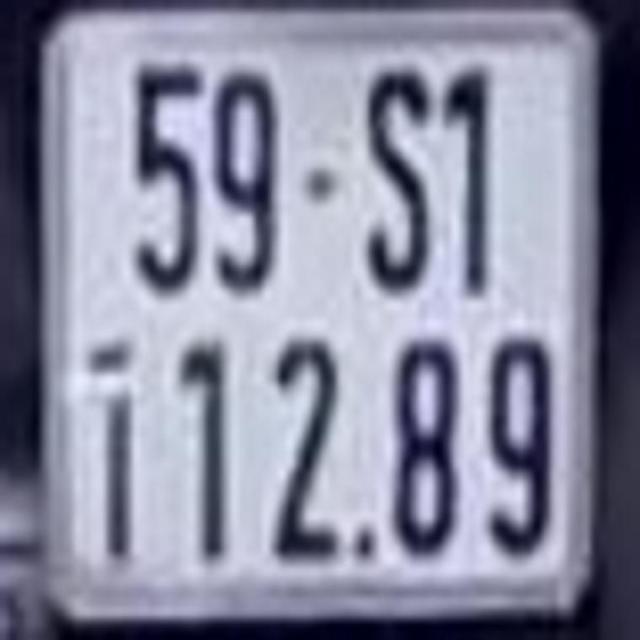1: (166, 332, 240, 562), (80, 332, 148, 566), (438, 66, 502, 292)
2: (258, 332, 342, 564)
5: (132, 55, 206, 292)
8: (388, 330, 463, 560)
9: (479, 324, 556, 564), (207, 58, 281, 297)
S: (358, 60, 436, 292)
